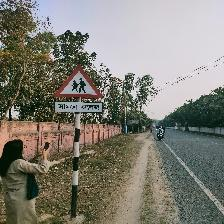College-in-front: (35, 50, 131, 147)
